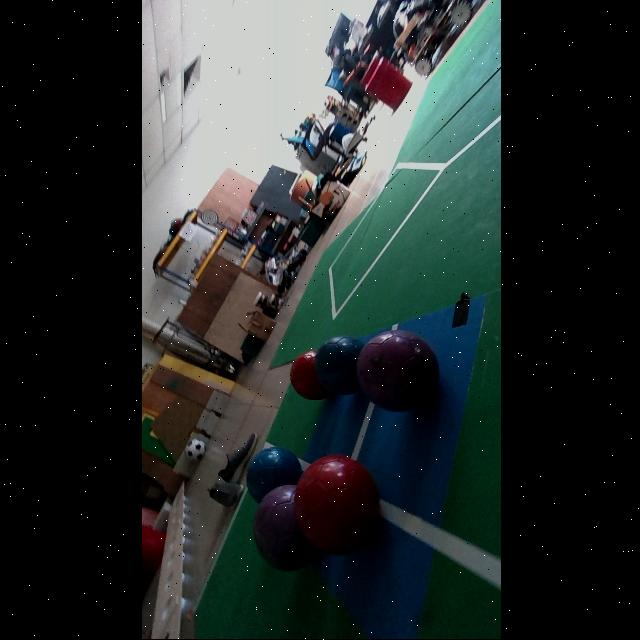B: (244, 447, 300, 504), (312, 335, 362, 396)
P: (355, 330, 437, 412), (252, 486, 316, 572)
R: (293, 455, 378, 555), (288, 351, 329, 401)
